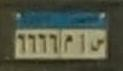6: (48, 32, 58, 54), (27, 33, 37, 55), (38, 32, 47, 53), (18, 32, 27, 52)
alif: (79, 33, 87, 54)
meem: (63, 34, 74, 55)
seen: (89, 34, 105, 53)
